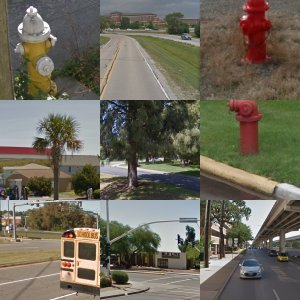汽車: (6, 51, 74, 87), (236, 232, 278, 264), (114, 28, 166, 52), (16, 263, 54, 289), (148, 129, 182, 144), (114, 235, 143, 249), (10, 140, 30, 158), (73, 145, 94, 160), (104, 131, 120, 142), (222, 230, 239, 239)
紅綠燈: (232, 138, 260, 167)
行人穿越道: (200, 8, 272, 41), (114, 71, 202, 95), (1, 168, 100, 185), (1, 153, 100, 167)
